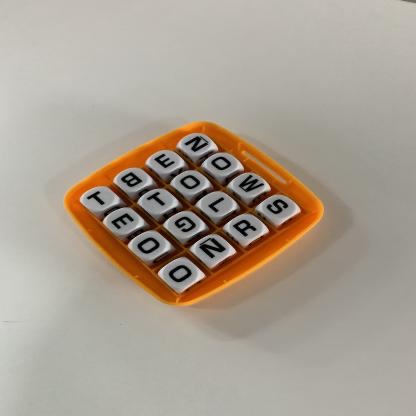b: (118, 168, 149, 190)
e: (106, 208, 142, 235), (151, 150, 181, 173)
g: (169, 213, 202, 238)
l: (201, 193, 235, 218)
n: (195, 236, 232, 264), (182, 135, 212, 156)
o: (163, 260, 200, 289), (133, 233, 167, 259), (175, 171, 206, 195), (208, 154, 240, 176)
r: (230, 215, 265, 241)
s: (262, 197, 297, 220)
t: (83, 187, 118, 211), (143, 190, 176, 213)
w: (235, 174, 267, 198)
